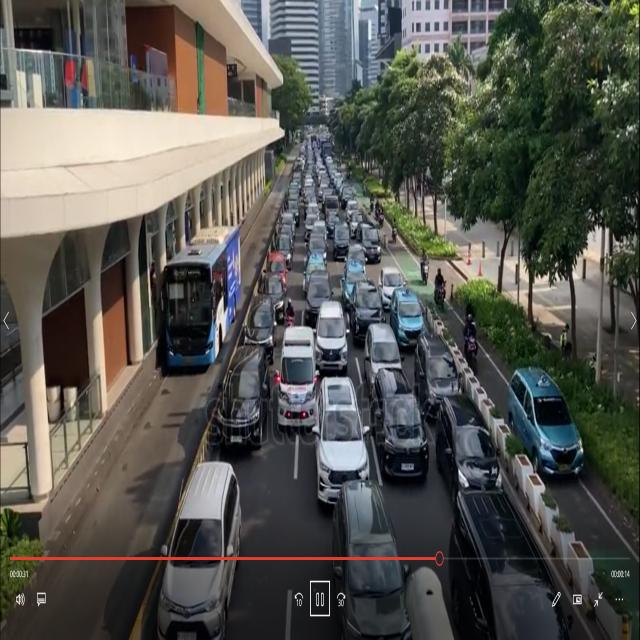Ambulance: (275, 320, 321, 453)
